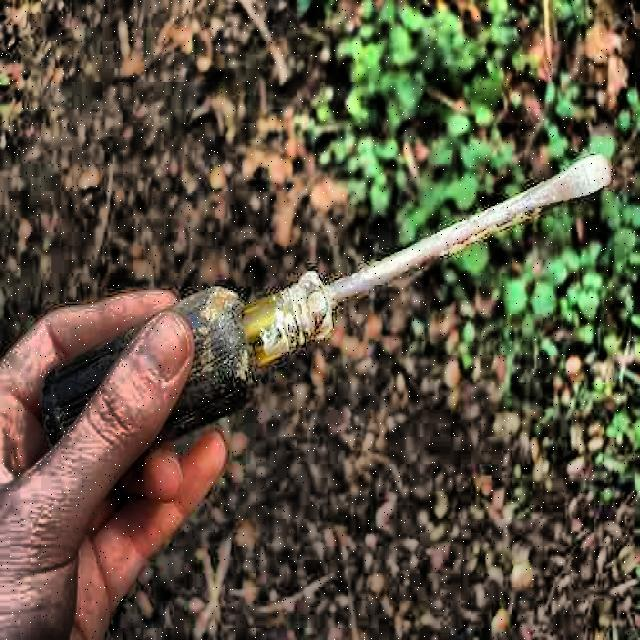screwdriver: (39, 154, 610, 473)
